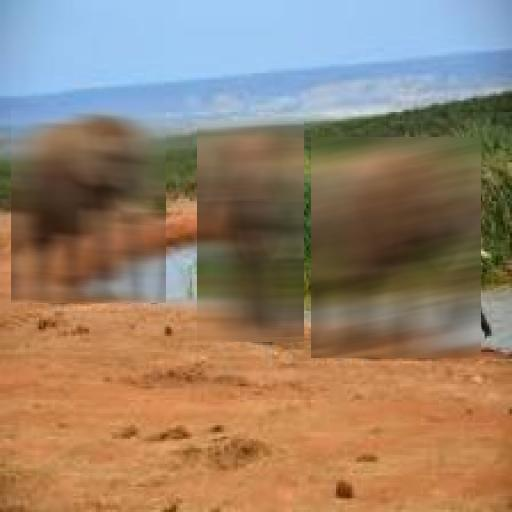Elephant: (311, 137, 481, 358), (11, 107, 166, 303), (197, 121, 304, 342)
